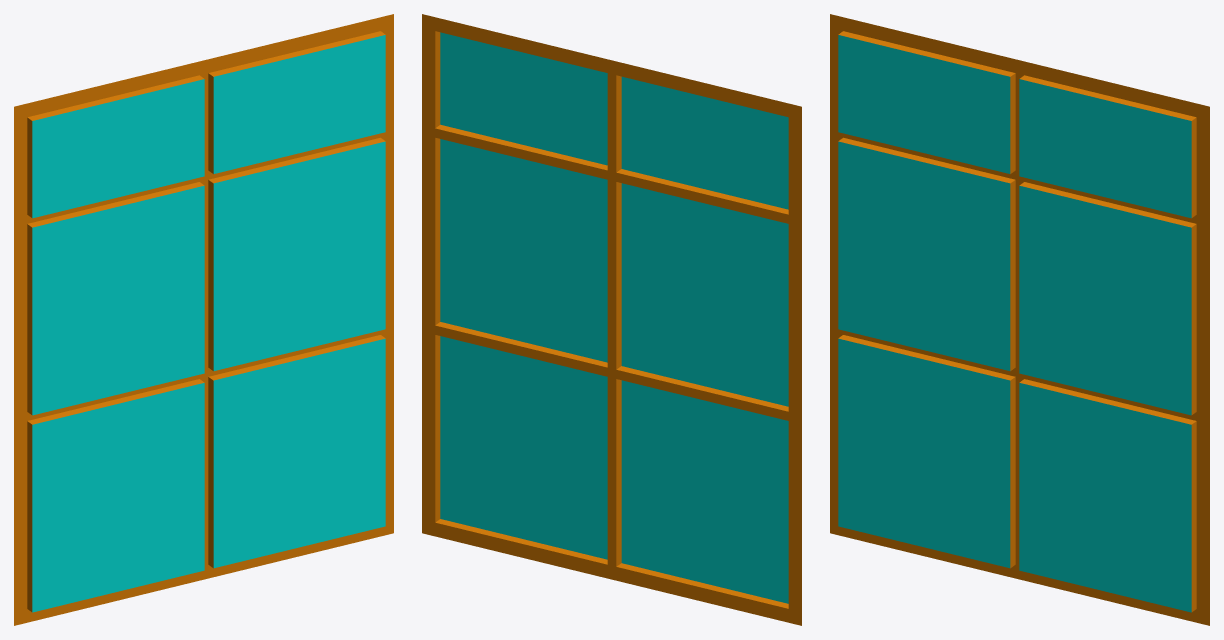
File: Unit_Glass.fbx
3 views of the same model, side by side, from view 1: azimuth 30°, elevation 25°; view 2: azimuth 150°, elevation 25°; view 3: azimuth 330°, elevation 25° (orthographic).
Visible parts, largest first — view 1: FrameWindow; view 2: FrameWindow; view 3: FrameWindow.
Part boxes in pixels (x1,y1,x2,y2): FrameWindow: (14,14,393,625); FrameWindow: (422,14,801,625); FrameWindow: (830,14,1209,625).
Size of the model in its own units: 0.8599 by 1.12 by 0.02.
